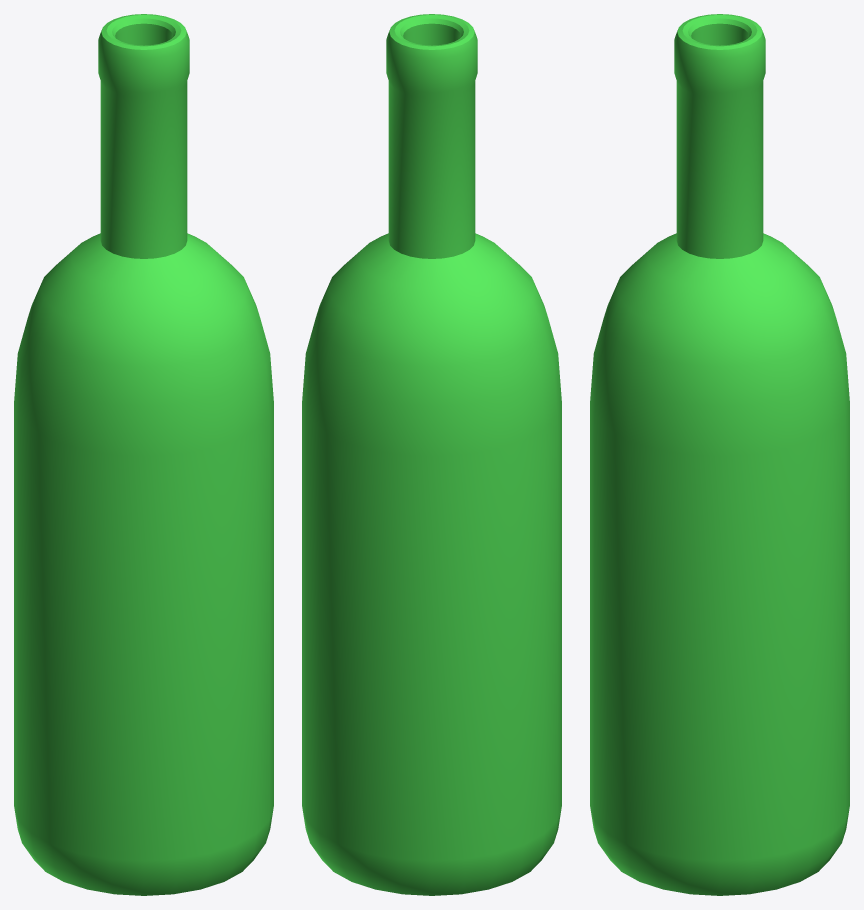
Rendered from garrafa.fbx.
The picture shows the model from 3 angles, left to right: view 1: azimuth 30°, elevation 25°; view 2: azimuth 150°, elevation 25°; view 3: azimuth 270°, elevation 25°; orthographic projection.
Parts seen in each view (by area): view 1: garrafa; view 2: garrafa; view 3: garrafa.
Part boxes in pixels (<box>): garrafa: <box>14,14,273,895</box>; garrafa: <box>302,14,561,895</box>; garrafa: <box>590,14,849,895</box>.
Bounding box in the file's own units: 200 × 703 × 200.
